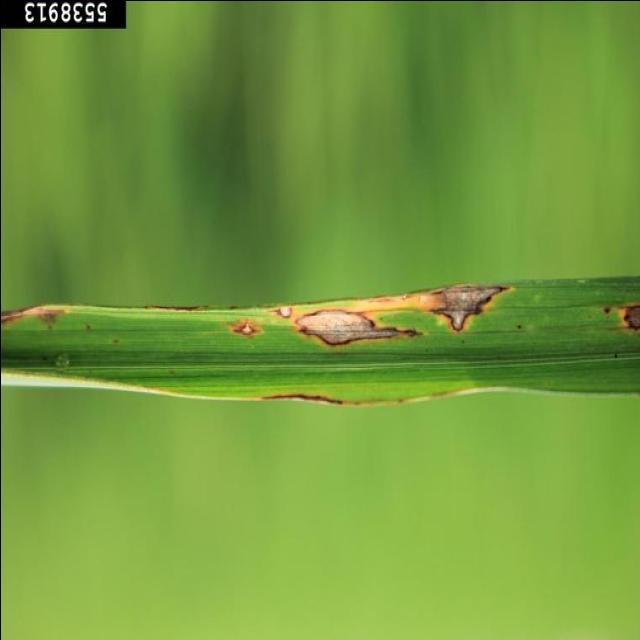Leaf blast: (0, 275, 640, 403)
